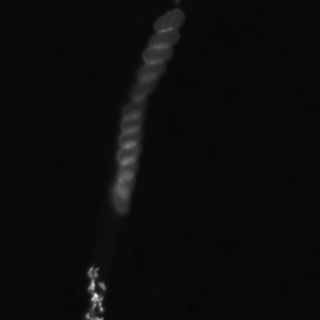embryo: (153, 8, 184, 31), (116, 140, 141, 165), (148, 29, 179, 49), (137, 62, 165, 83), (143, 44, 172, 64), (117, 155, 137, 184), (112, 186, 131, 215), (117, 169, 136, 197), (131, 79, 157, 98), (122, 101, 145, 121), (120, 116, 141, 135), (118, 131, 140, 149)
